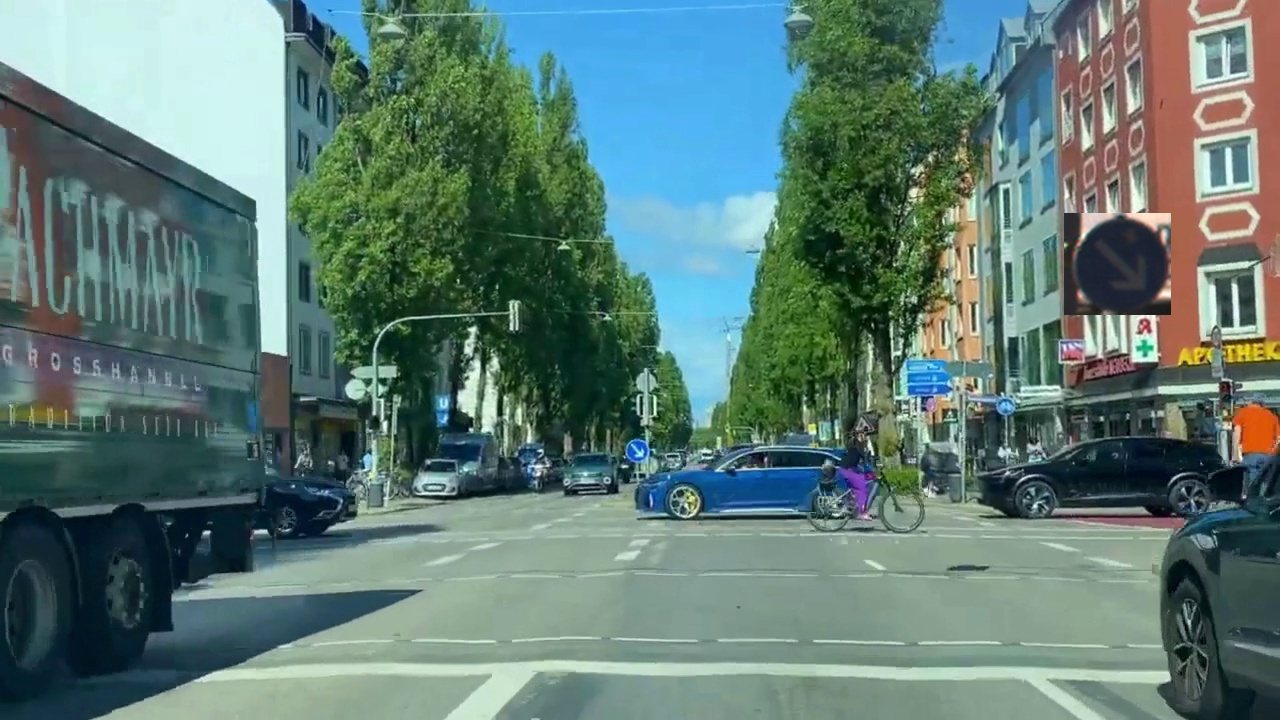Keep right: (1064, 213, 1171, 315)
